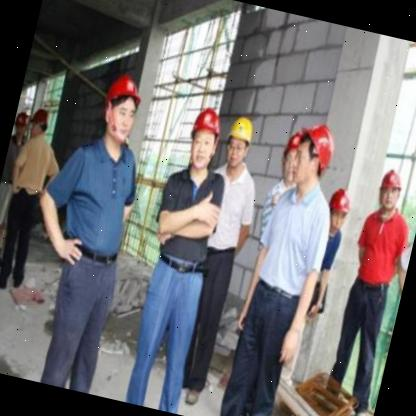bota: (180, 377, 207, 409)
capacete: (278, 117, 338, 193), (96, 72, 147, 144), (184, 106, 224, 170), (221, 115, 257, 170), (322, 186, 355, 233), (373, 167, 406, 213), (26, 105, 52, 142)
